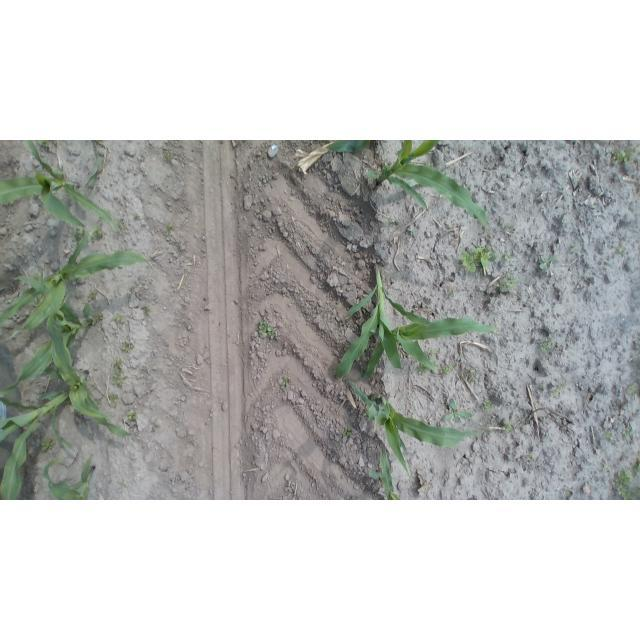Maize: (336, 268, 501, 381), (0, 228, 156, 337), (0, 365, 110, 500), (351, 375, 490, 479), (0, 270, 94, 400), (0, 140, 120, 234), (47, 303, 130, 438), (367, 141, 490, 230), (359, 316, 497, 382), (42, 452, 99, 498), (368, 447, 405, 500), (83, 140, 101, 188), (326, 140, 379, 154)
Weeds: (459, 244, 499, 273), (443, 396, 473, 424), (611, 145, 638, 167), (111, 356, 127, 388), (496, 274, 521, 294), (257, 319, 277, 341), (539, 253, 559, 272), (40, 436, 59, 454), (551, 380, 568, 399), (613, 470, 632, 485), (91, 225, 105, 242), (71, 227, 85, 244), (616, 486, 632, 500), (424, 346, 440, 360), (439, 362, 454, 376), (541, 338, 554, 354), (465, 368, 478, 384), (120, 339, 134, 353), (108, 392, 120, 408), (92, 309, 104, 325), (113, 219, 127, 232), (417, 362, 430, 376), (162, 148, 174, 163), (631, 456, 640, 475), (113, 313, 127, 325), (503, 420, 513, 436), (602, 429, 614, 442), (568, 242, 581, 254), (140, 303, 152, 316), (623, 425, 634, 439), (369, 391, 381, 403), (280, 377, 292, 389), (503, 251, 514, 264), (483, 399, 494, 412), (341, 427, 355, 437), (88, 383, 96, 400), (127, 411, 138, 423), (615, 246, 627, 257), (628, 383, 639, 395), (54, 169, 67, 179), (632, 485, 640, 500), (36, 141, 53, 148), (32, 295, 42, 306), (88, 291, 99, 301), (424, 161, 436, 170), (116, 480, 128, 489), (385, 217, 395, 227), (525, 453, 535, 463), (139, 365, 150, 374), (563, 488, 573, 497), (447, 288, 457, 297), (407, 229, 417, 238), (166, 221, 174, 232), (134, 213, 146, 220), (152, 423, 161, 432), (538, 383, 546, 392), (501, 222, 509, 231), (94, 398, 102, 406), (33, 273, 40, 280), (603, 465, 610, 472), (517, 416, 524, 423), (44, 213, 52, 219), (73, 409, 80, 414), (364, 410, 368, 416), (638, 336, 640, 345), (399, 345, 402, 350)
